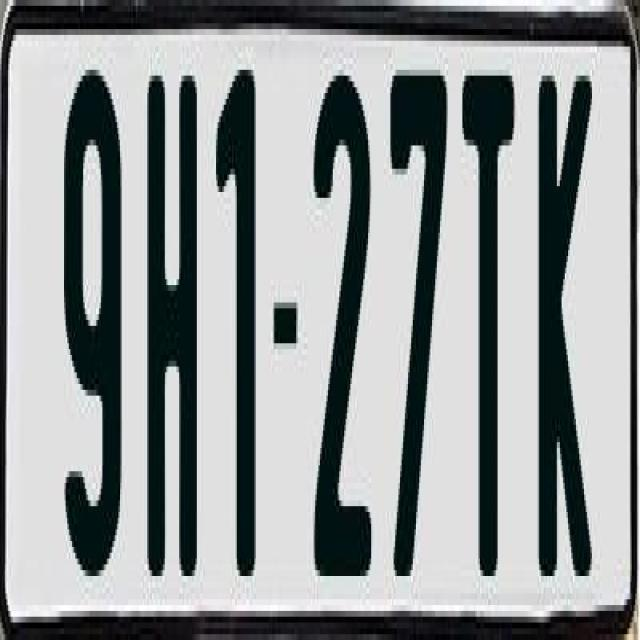1: (214, 64, 260, 582)
2: (314, 70, 378, 600)
7: (388, 76, 446, 576)
9: (60, 52, 124, 588)
H: (146, 70, 198, 582)
K: (534, 63, 597, 600)
T: (462, 70, 514, 588)
